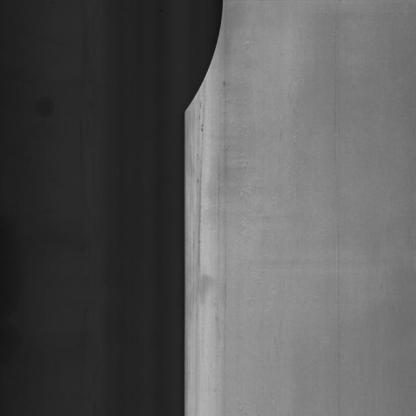crescent_gap: (167, 0, 233, 143)
